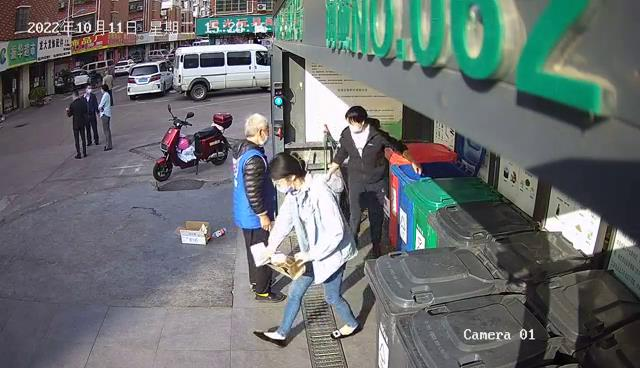person: (248, 149, 365, 351), (319, 103, 426, 261)
suliaozhipin: (210, 225, 229, 242)
worker: (227, 109, 291, 306)
zhizhipin: (173, 217, 213, 247)
